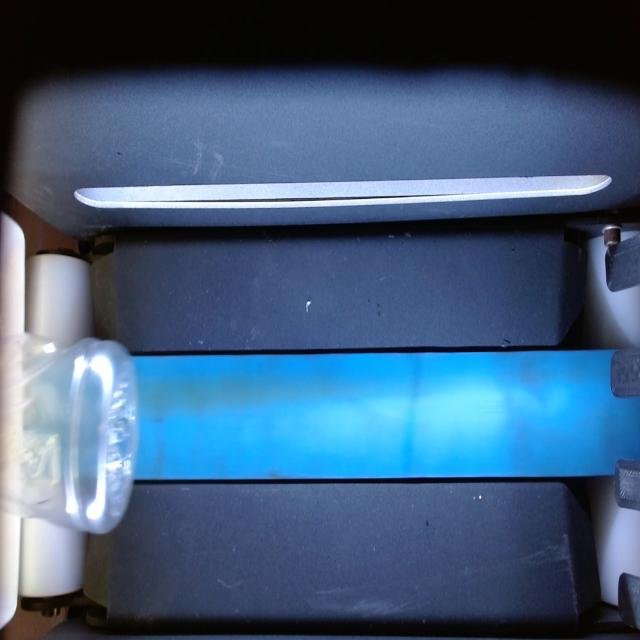bottom: (0, 334, 138, 533)
